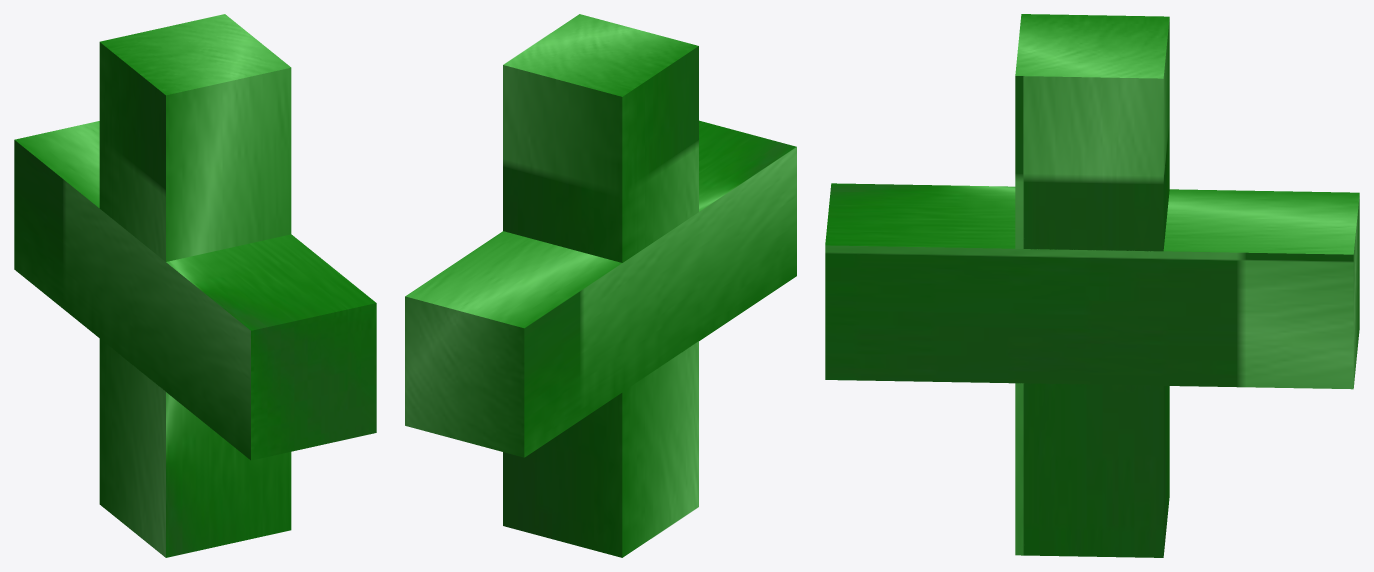
The model's file is LifeBonus.fbx.
3 renders of one model, left to right at view 1: azimuth 30°, elevation 25°; view 2: azimuth 150°, elevation 25°; view 3: azimuth 270°, elevation 25°, orthographic. The views are drawn at different scales.
Visible parts, largest first — view 1: pCube1, pCube2; view 2: pCube1, pCube2; view 3: pCube2, pCube1.
Part boxes in pixels (box(x1,y1,x2,y2)): pCube1: box(99, 14, 291, 557); pCube2: box(14, 121, 376, 460); pCube1: box(503, 14, 698, 557); pCube2: box(405, 120, 796, 457); pCube2: box(825, 183, 1359, 389); pCube1: box(1015, 14, 1169, 557).
Size of the model in its own units: 27.43 by 86.04 by 86.96.
1 material, 1 textured.
